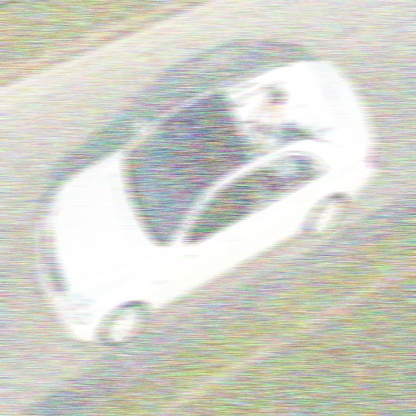Vehicle: (38, 55, 380, 349)
